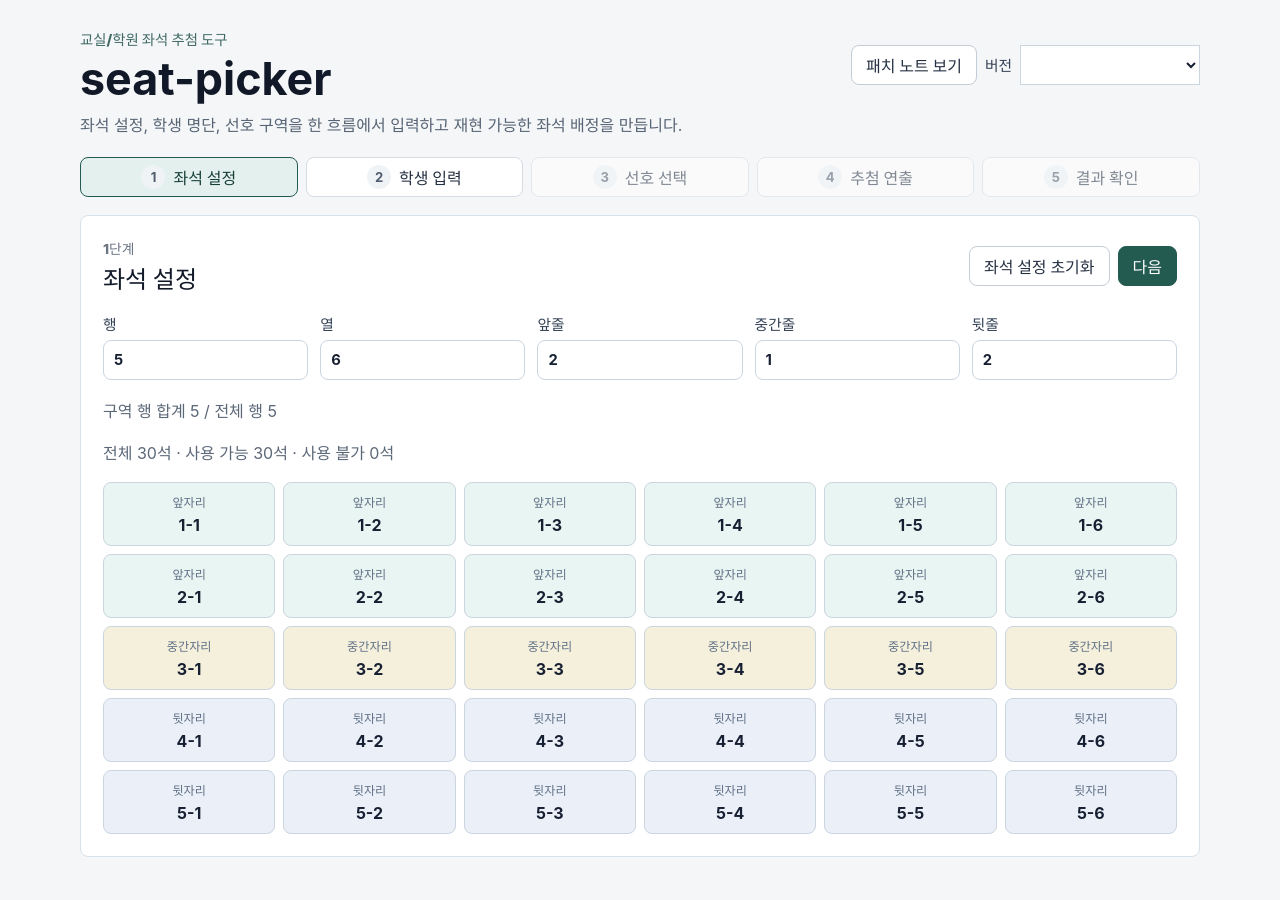
Test: App › disables seat setup progression when zone rows do not match total rows
Step 1. Replace the text in the number field labelled "앞줄" with "1" → (640, 360), box [537, 340, 743, 380]
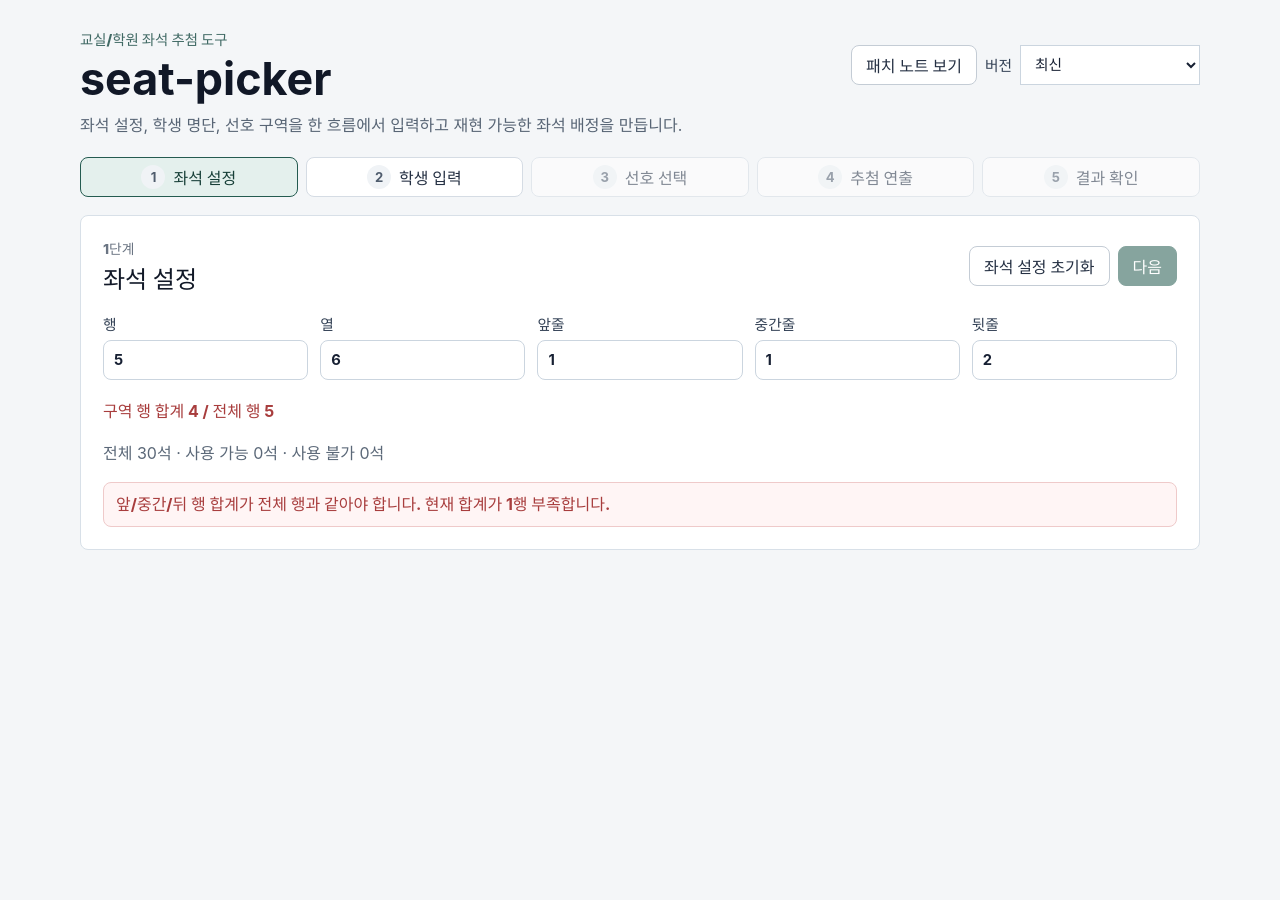
Expected: the list item "앞/중간/뒤 행 합계가 전체 행과 같아야 합니다. 현재 합계가 1행 부족합니다." is shown, [103, 482, 1177, 527]
Expected: the button "다음" is disabled, [1118, 246, 1177, 286]
